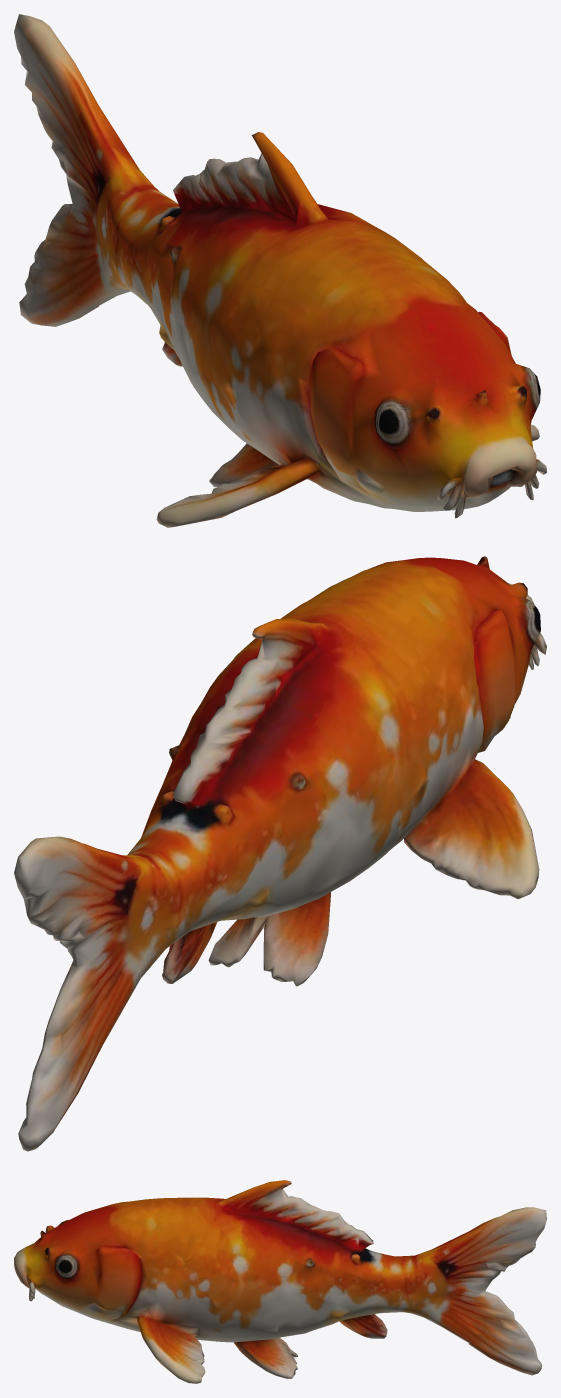
Rendered from fish-koi.glb.
3 renders of one model, top to bottom at view 1: azimuth 30°, elevation 25°; view 2: azimuth 150°, elevation 25°; view 3: azimuth 270°, elevation 25°, orthographic. The views are drawn at different scales.
Parts seen in each view (by area): view 1: tripo_node_55c42bfa-3a44-4c2c-a311-bc831c935bab; view 2: tripo_node_55c42bfa-3a44-4c2c-a311-bc831c935bab; view 3: tripo_node_55c42bfa-3a44-4c2c-a311-bc831c935bab.
Boxes of the visible parts, x1=… form: tripo_node_55c42bfa-3a44-4c2c-a311-bc831c935bab: x1=14, y1=14, x2=546, y2=527; tripo_node_55c42bfa-3a44-4c2c-a311-bc831c935bab: x1=14, y1=556, x2=546, y2=1151; tripo_node_55c42bfa-3a44-4c2c-a311-bc831c935bab: x1=14, y1=1180, x2=546, y2=1383.
Bounding box in the file's own units: 0.4386 × 0.4012 × 0.9994.
Materials: 1 (1 with a texture image).
